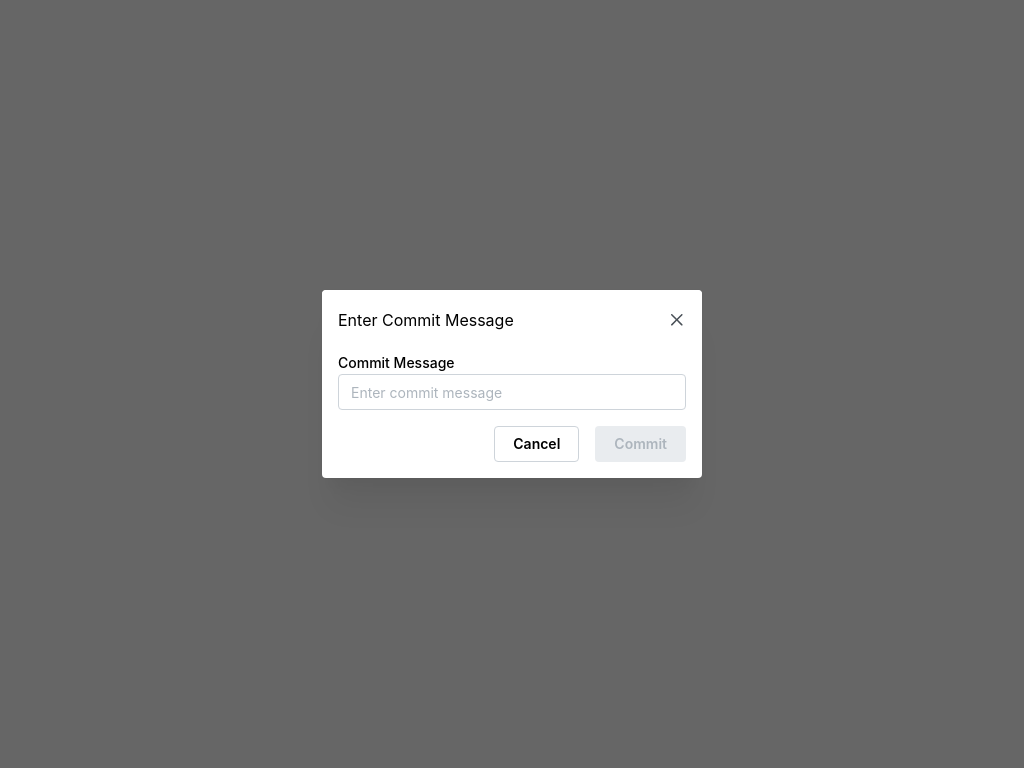
Test case: CommitMessageModal › Form Validation › enables commit button when input has content
Type "Test commit" into the field with test id "commit-message-input". click: (512, 392)
box: 338,374 -> 686,410
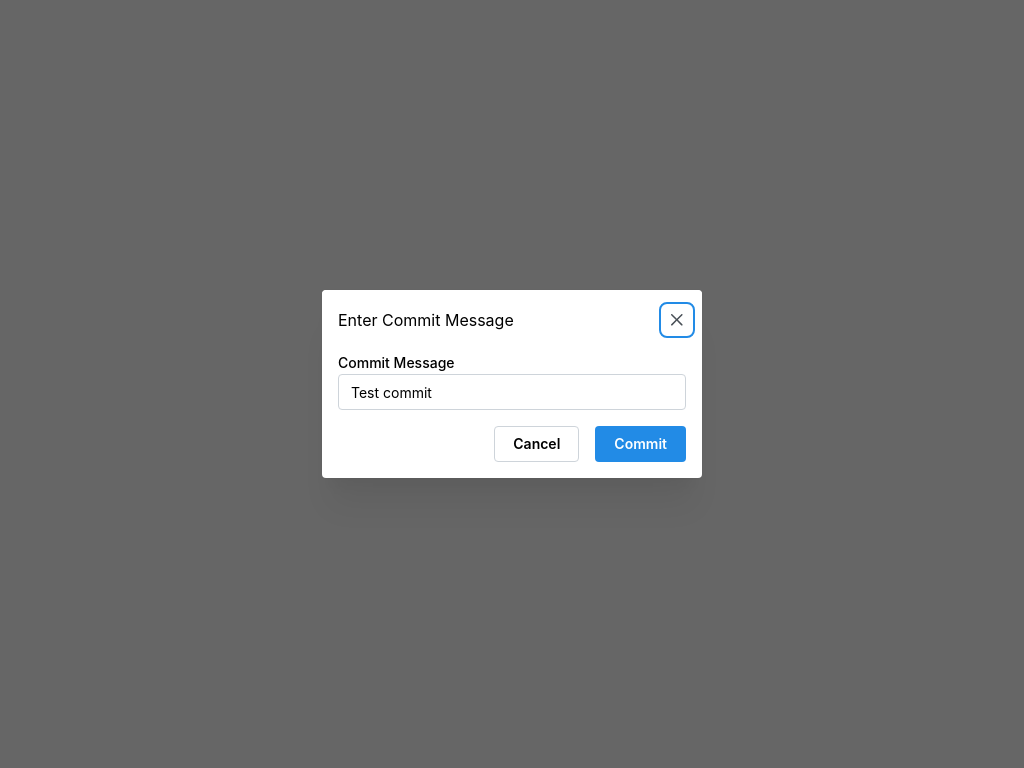
Expected: the button with test id "confirm-commit-message-button" is enabled, 595,426 -> 686,462
